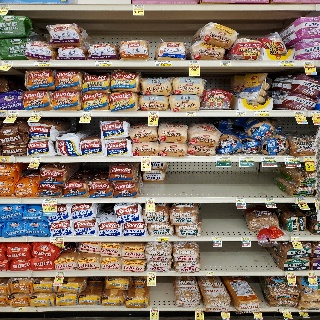All PRICE TAGS: (95, 60, 111, 66), (156, 60, 171, 66), (277, 61, 294, 66), (34, 61, 50, 66), (254, 111, 270, 116), (239, 156, 254, 161), (216, 156, 231, 161), (43, 198, 57, 203), (262, 156, 276, 161), (133, 4, 144, 10), (155, 236, 168, 241), (284, 157, 299, 161), (50, 237, 64, 241), (220, 61, 231, 66), (8, 111, 19, 116), (148, 111, 159, 116), (236, 111, 247, 116), (31, 157, 41, 162), (294, 111, 304, 116), (32, 111, 42, 116), (186, 111, 196, 116), (303, 61, 315, 65), (241, 236, 250, 241), (212, 236, 221, 241), (311, 111, 320, 116), (2, 61, 13, 65), (188, 61, 199, 65), (81, 111, 92, 115), (206, 271, 214, 276), (236, 198, 246, 202), (145, 198, 155, 202), (141, 157, 151, 161), (304, 157, 314, 161), (297, 198, 305, 203), (291, 236, 299, 241), (1, 4, 9, 9), (150, 307, 159, 311), (147, 272, 156, 276), (56, 272, 65, 276), (265, 198, 274, 202), (195, 307, 203, 311), (282, 308, 290, 312), (308, 272, 315, 276), (298, 309, 306, 312), (287, 272, 294, 275)
